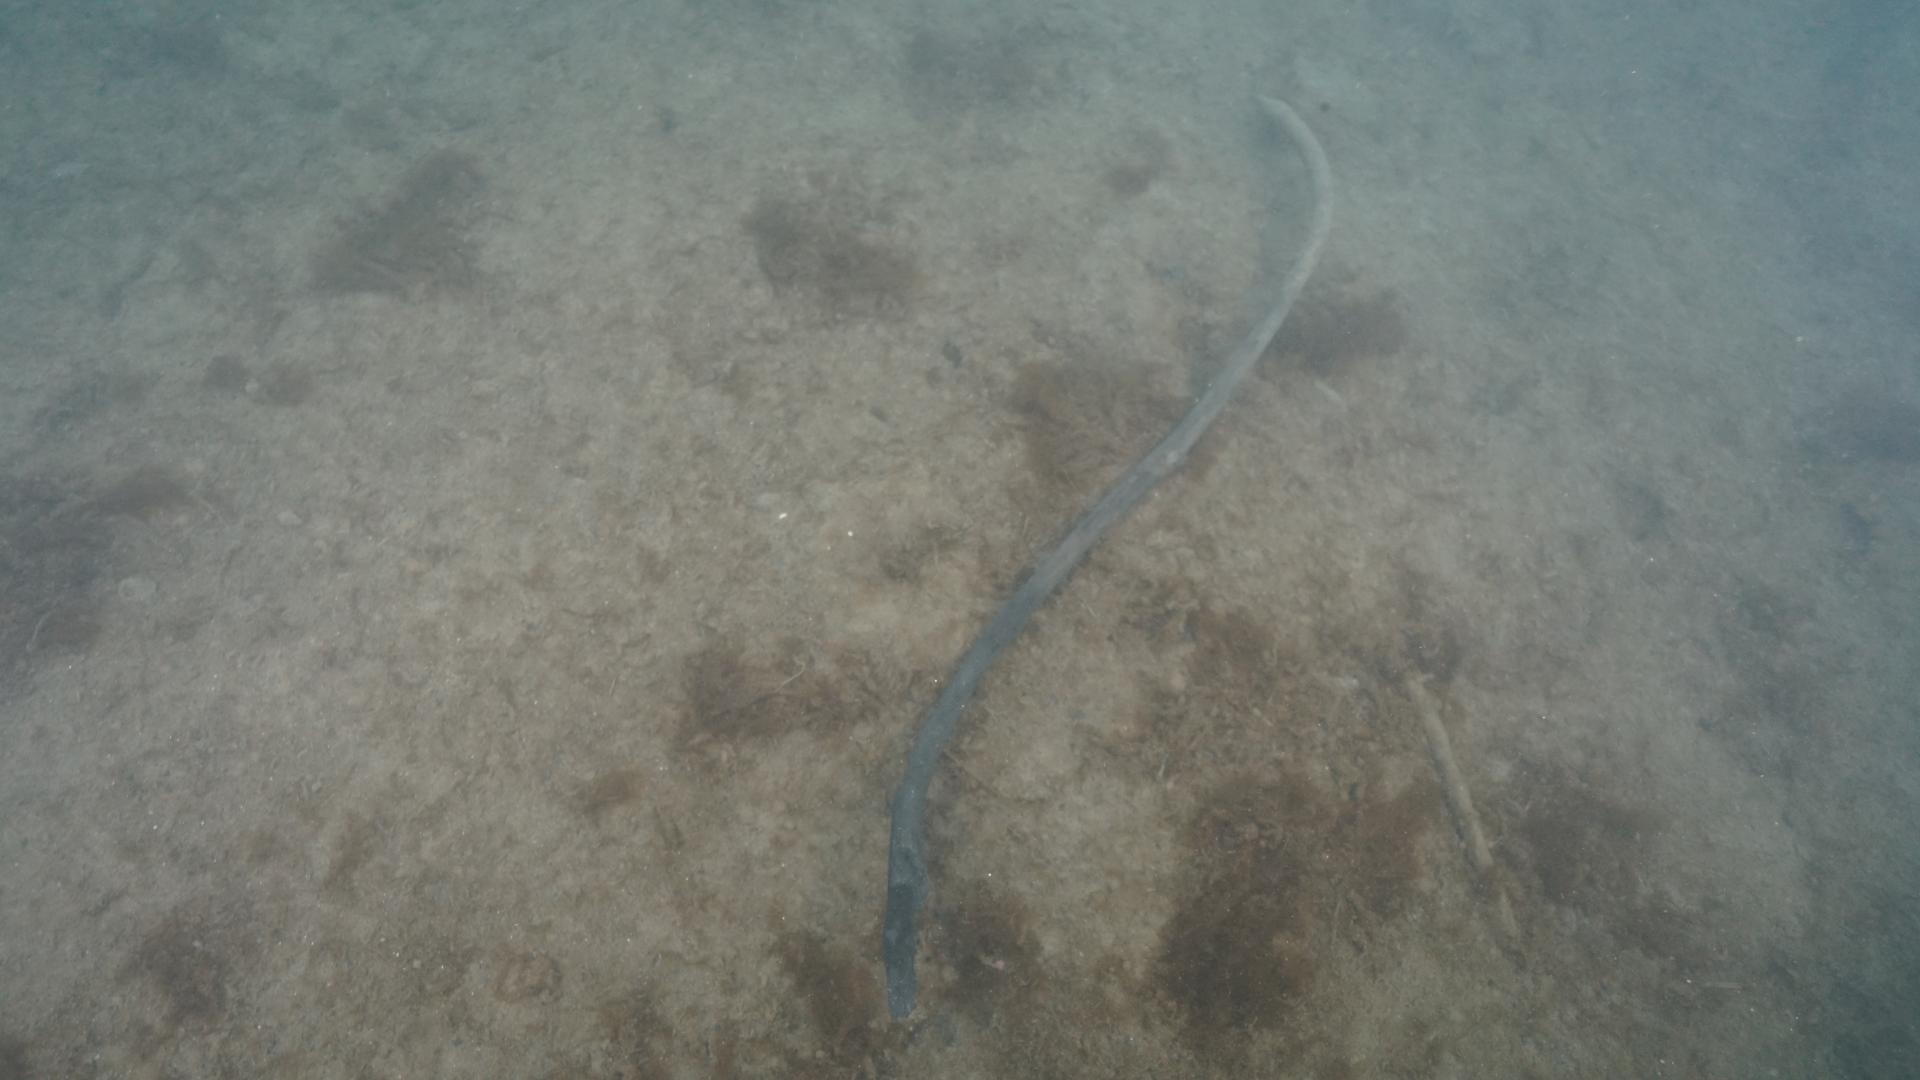wood: (880, 91, 1333, 1017)
